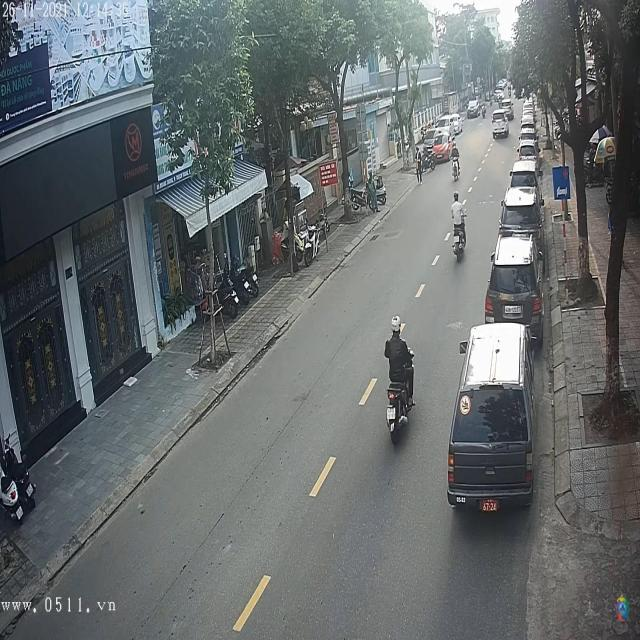car: (448, 325, 534, 511), (485, 234, 544, 333), (499, 190, 544, 236), (505, 160, 538, 200), (490, 110, 510, 138), (517, 136, 537, 158)
motorcycle: (386, 365, 415, 440), (452, 217, 468, 264)
